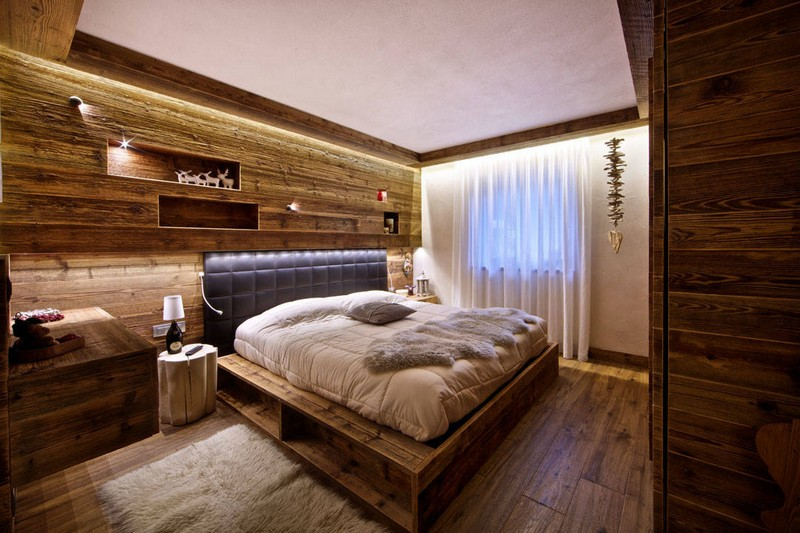bed: (200, 246, 557, 526)
lamp: (160, 292, 187, 356), (411, 246, 434, 301)
stool: (159, 342, 219, 434)
